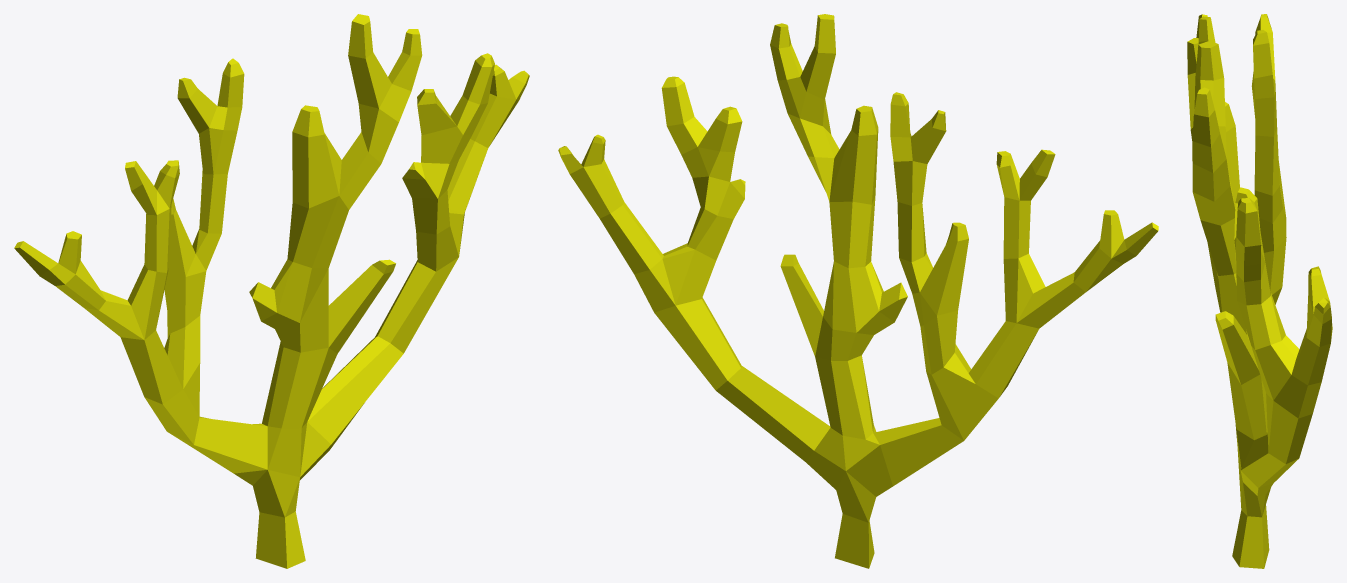
Rendered from trp_coral4.glb.
3 renders of one model, left to right at view 1: azimuth 30°, elevation 25°; view 2: azimuth 150°, elevation 25°; view 3: azimuth 270°, elevation 25°, orthographic. The views are drawn at different scales.
Parts seen in each view (by area): view 1: SM_Prop_Coral_04; view 2: SM_Prop_Coral_04; view 3: SM_Prop_Coral_04.
Part boxes in pixels (x1,y1,x2,y2): SM_Prop_Coral_04: (14, 14, 529, 568); SM_Prop_Coral_04: (558, 14, 1158, 568); SM_Prop_Coral_04: (1187, 14, 1332, 568).
Bounding box in the file's own units: 0.4812 × 0.4351 × 0.1055.
1 material, 1 textured.
